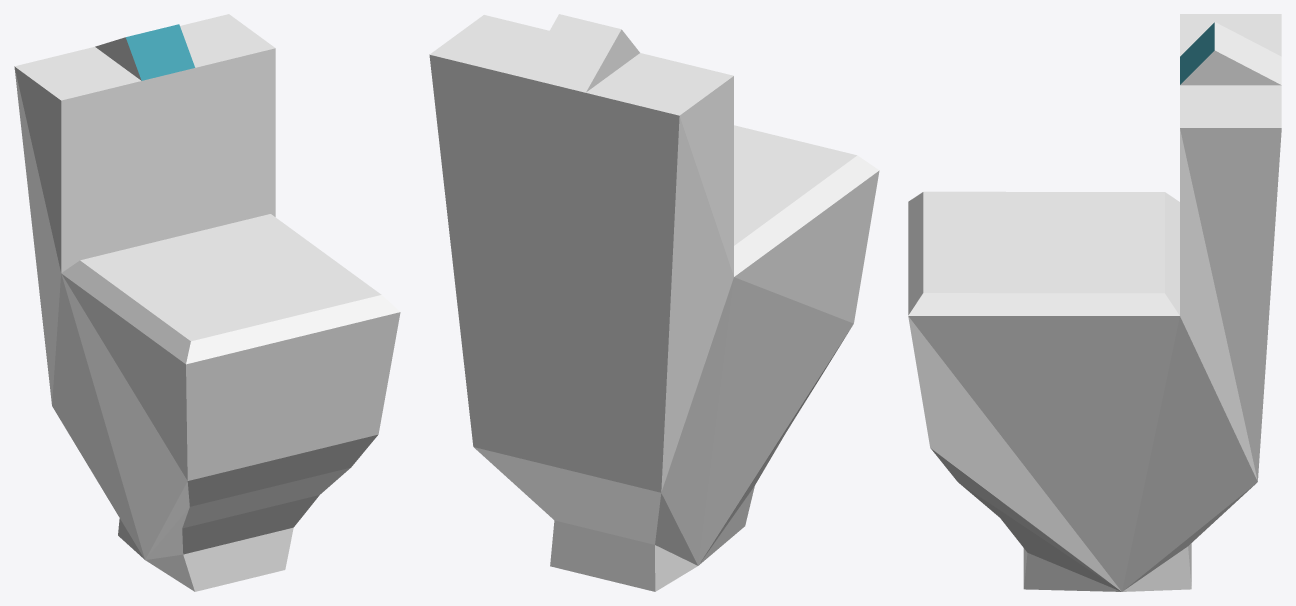
File: toilet.fbx
3 views of the same model, side by side, from view 1: azimuth 30°, elevation 25°; view 2: azimuth 150°, elevation 25°; view 3: azimuth 270°, elevation 25° (orthographic). The views are drawn at different scales.
Parts seen in each view (by area): view 1: tolte; view 2: tolte; view 3: tolte.
Boxes of the visible parts, x1,y1,x2,y2 form: tolte: (14,14,400,591); tolte: (429,14,879,591); tolte: (908,14,1281,591).
Bounding box in the file's own units: 44.41 × 96.12 × 61.49.
